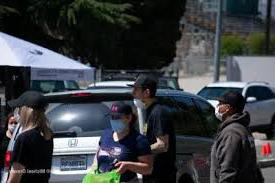mask_weared_incorrect: (128, 88, 142, 107)
with_mask: (108, 115, 127, 134), (212, 100, 228, 121), (12, 106, 24, 124), (8, 119, 17, 135)
